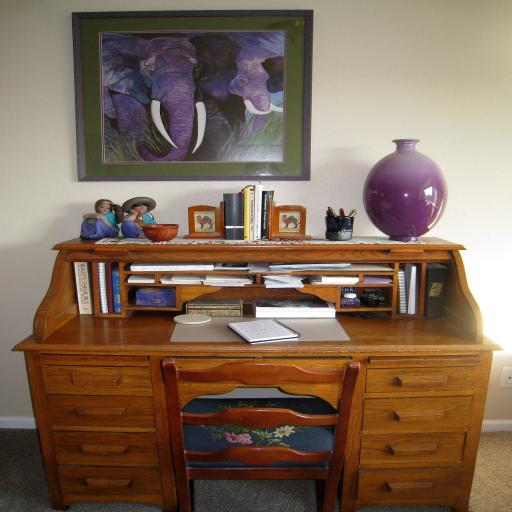chair: (162, 358, 362, 512)
desk: (10, 235, 503, 512)
wall: (0, 0, 512, 433)
